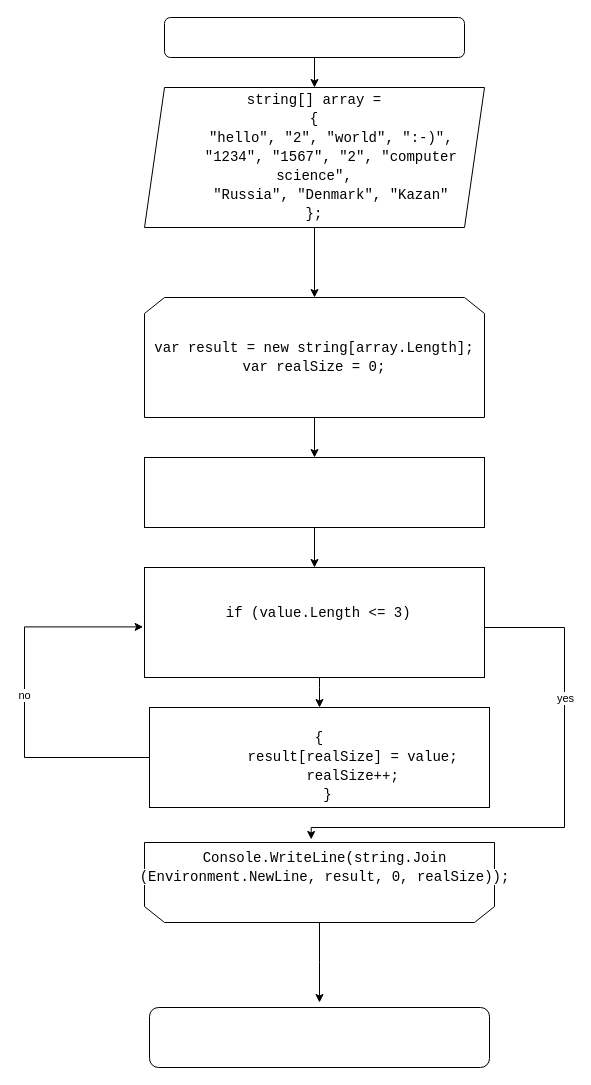
The diagram is 591 pixels wide and 1085 high, and some of its shapes have lost their labels. Here are the shapes that lost their labels. From the top down, the centre of each, then its label:
(x=314, y=37): START
(x=314, y=492): foreach (var value in array)
(x=319, y=1037): FINISH
